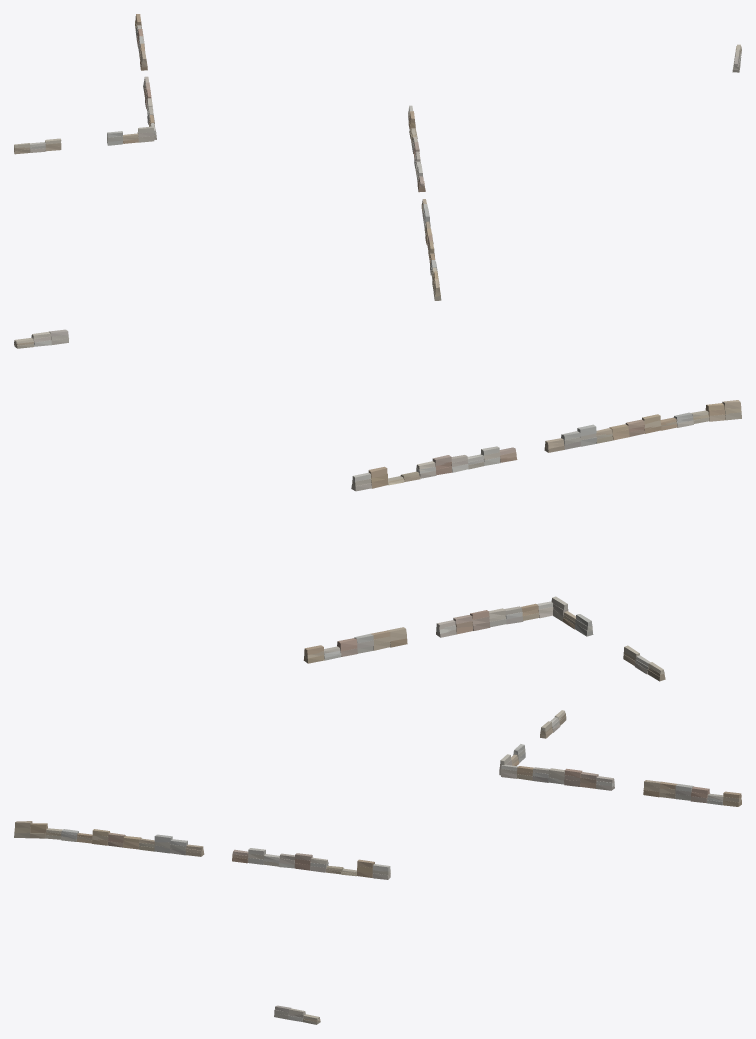
The model's file is farm_15_25_mid.glb.
The picture shows the model from 3 angles, top to bottom: view 1: azimuth 30°, elevation 25°; view 2: azimuth 150°, elevation 25°; view 3: azimuth 270°, elevation 25°; orthographic projection. The views are drawn at different scales.
Visible parts, largest first — view 1: geometry_0; view 2: geometry_0; view 3: geometry_0.
Boxes of the visible parts, bbox=[...] form: geometry_0: bbox=[14, 14, 741, 300]; geometry_0: bbox=[14, 329, 741, 681]; geometry_0: bbox=[14, 710, 741, 1024].
Size of the model in its own units: 73.22 by 6.09 by 65.87.
